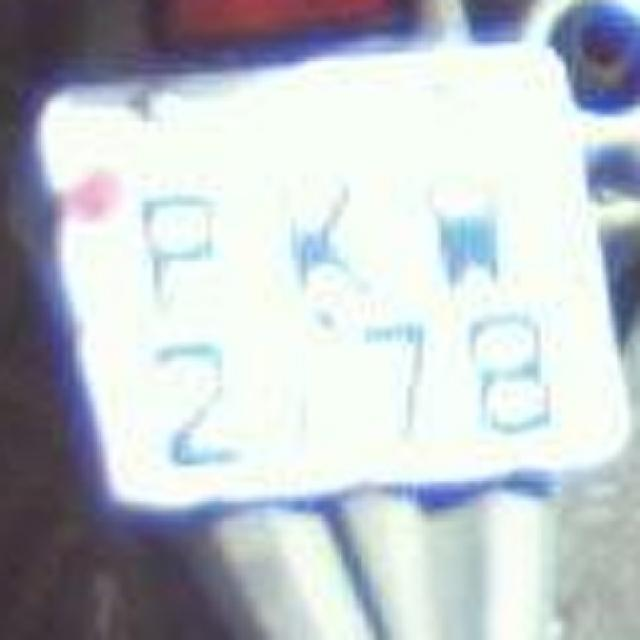2: (116, 308, 276, 488)
3: (496, 455, 632, 640)
7: (372, 460, 548, 640), (275, 472, 440, 640), (324, 296, 456, 472)
8: (440, 276, 585, 464)
P: (125, 160, 240, 328)
